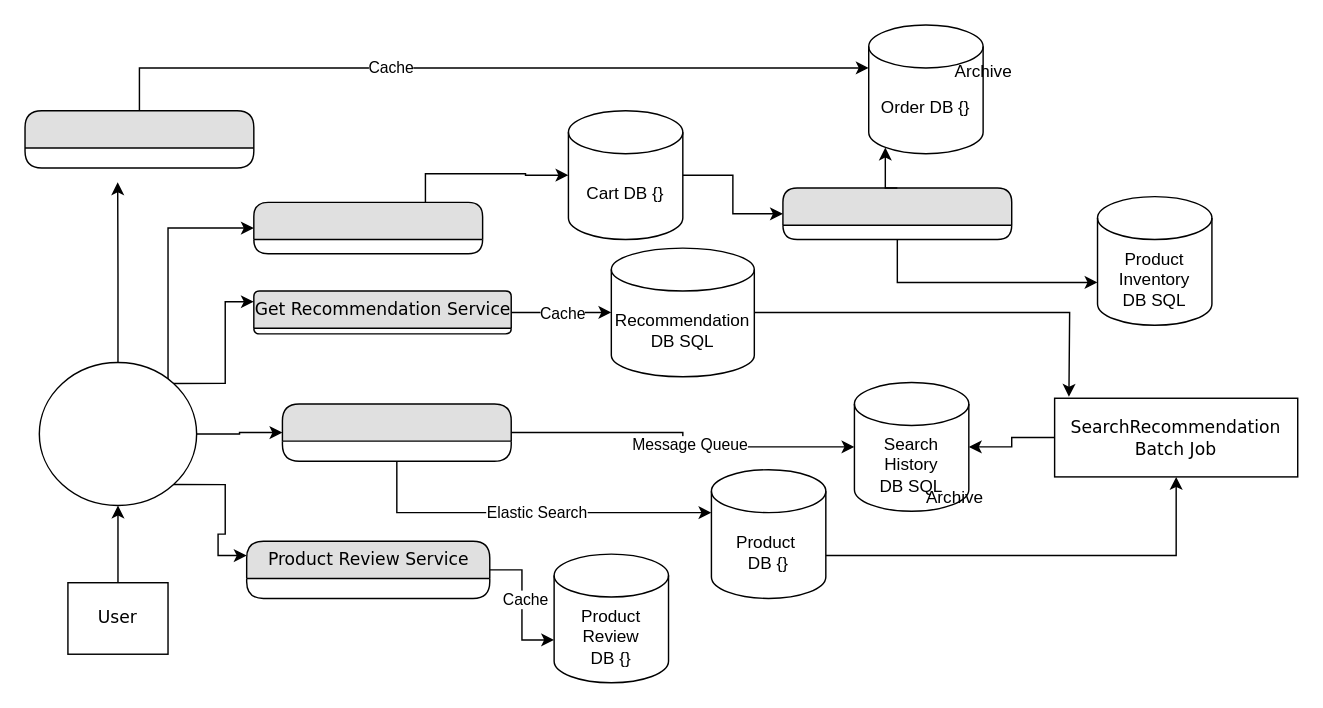
Image size: 1323x708. Some labels were removed from this diagram. Here are the shapes that lost their labels. From the top down, the centre of each, then its label:
At point 139,138: "OrderStatus Service".
At point 367,227: "AddToCart Service".
At point 896,213: "PlaceOrder Service".
At point 117,433: "Load Balancer".
At point 396,432: "Product Search Service".
